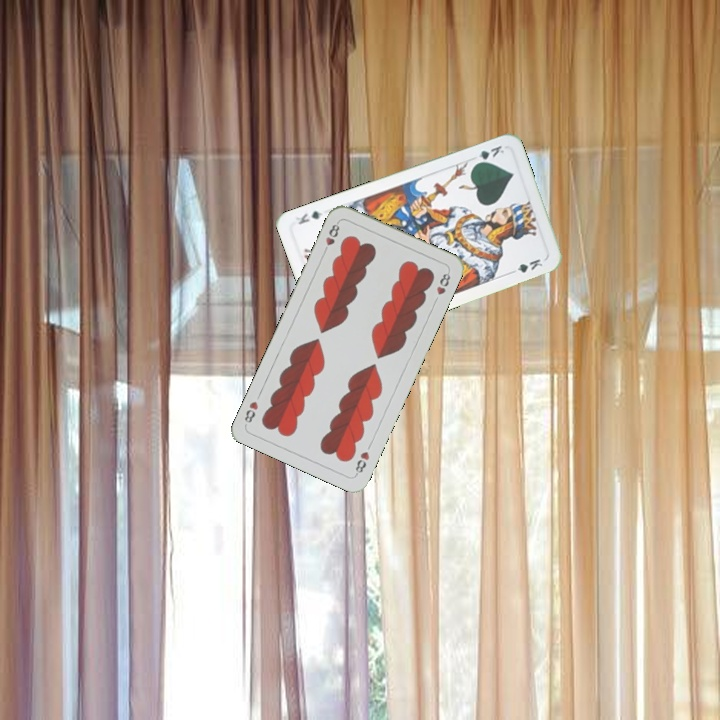GK: (470, 141, 507, 167)
H8: (319, 218, 342, 256), (351, 447, 372, 478)
